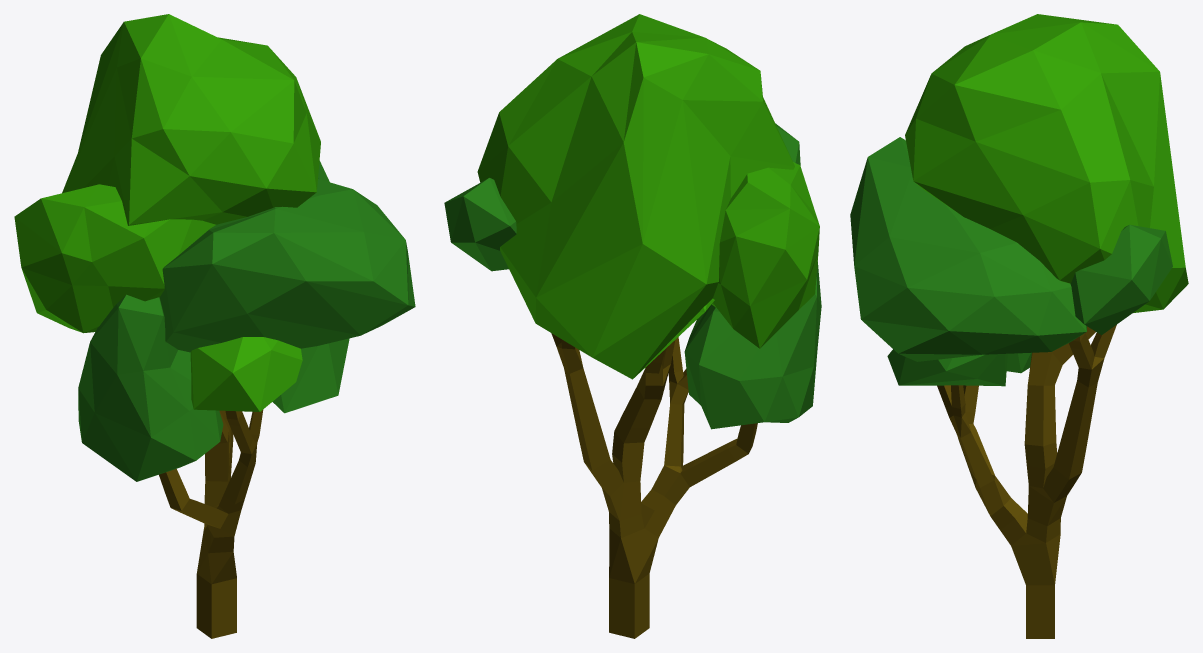
The model's file is Tree3.fbx.
3 renders of one model, left to right at view 1: azimuth 30°, elevation 25°; view 2: azimuth 150°, elevation 25°; view 3: azimuth 270°, elevation 25°, orthographic. The views are drawn at different scales.
Parts seen in each view (by area): view 1: Cube.003; view 2: Cube.003; view 3: Cube.003.
Boxes of the visible parts, x1,y1,x2,y2 form: Cube.003: (14, 14, 415, 638); Cube.003: (444, 14, 821, 638); Cube.003: (850, 14, 1188, 638).
Bounding box in the file's own units: 1014 × 1780 × 914.
